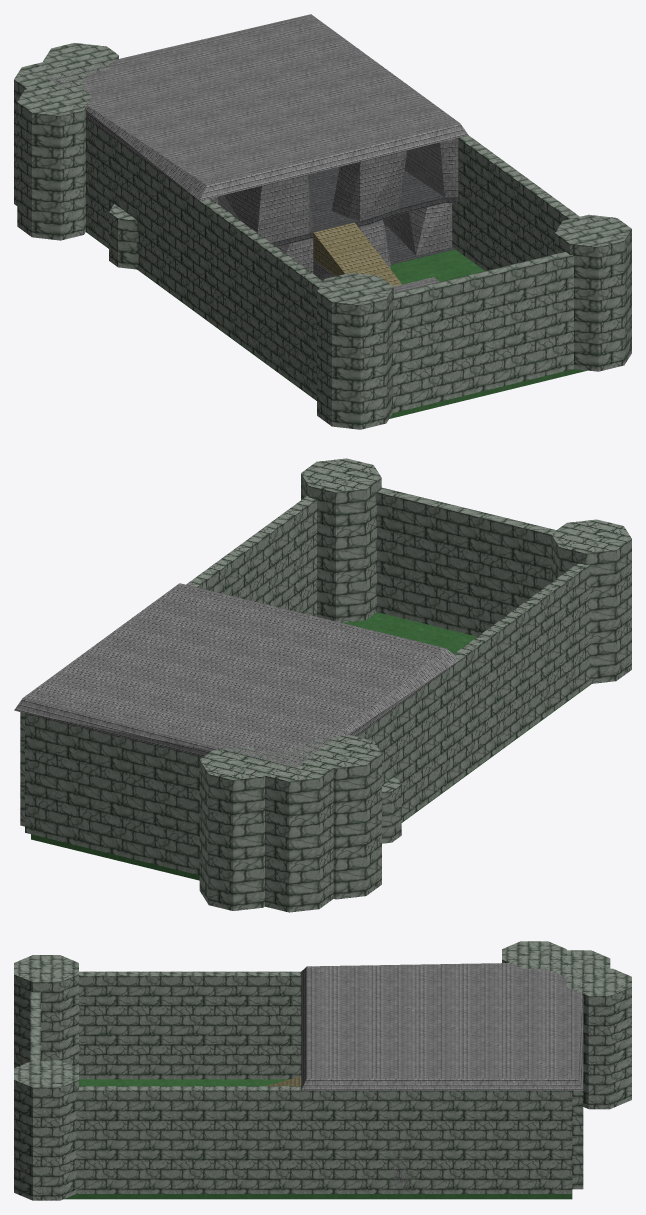
The model's file is mapa kenoma 1.fbx.
The picture shows the model from 3 angles, top to bottom: view 1: azimuth 30°, elevation 25°; view 2: azimuth 150°, elevation 25°; view 3: azimuth 270°, elevation 25°; orthographic projection. The views are drawn at different scales.
Visible parts, largest first — view 1: mapa; view 2: mapa; view 3: mapa.
Boxes of the visible parts, bbox=[...] form: mapa: bbox=[14, 14, 631, 429]; mapa: bbox=[14, 458, 631, 912]; mapa: bbox=[14, 941, 631, 1200].
Bounding box in the file's own units: 102400 × 40000 × 182400.
